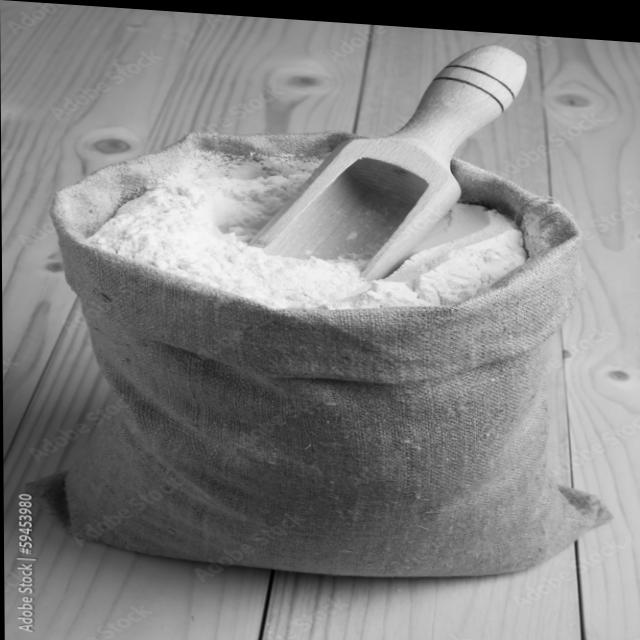sack: (20, 109, 612, 586)
